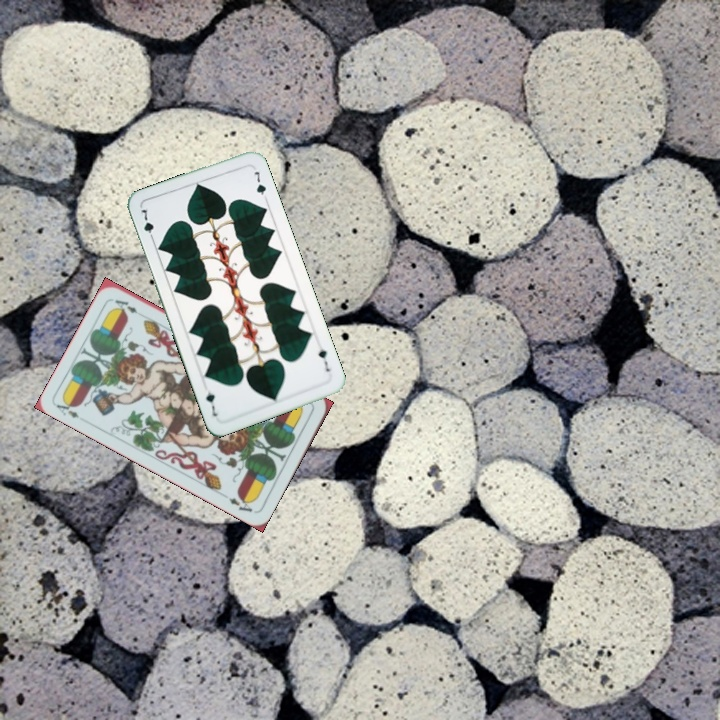EA: (52, 396, 82, 421)
G7: (136, 204, 157, 244), (314, 340, 333, 374)
